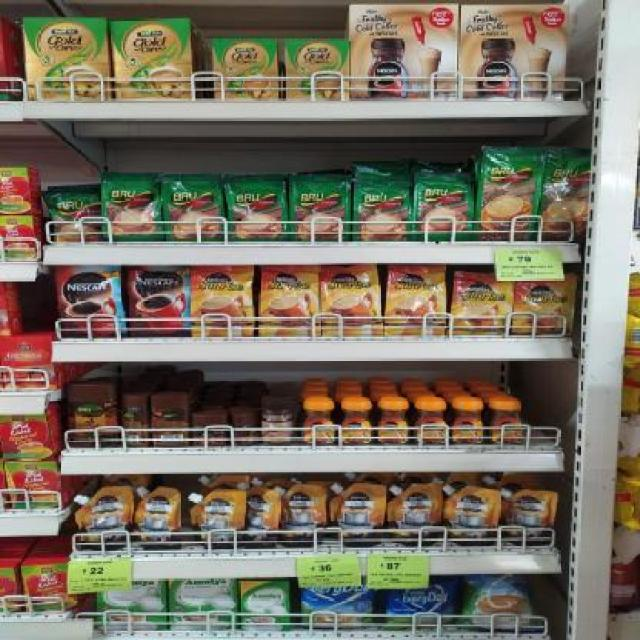Coffee: (57, 265, 119, 337), (128, 266, 190, 335), (193, 265, 252, 337), (261, 265, 319, 337), (388, 266, 446, 337), (322, 266, 378, 336), (455, 273, 511, 335), (516, 280, 573, 334), (413, 403, 450, 446), (488, 402, 524, 445), (302, 403, 335, 446), (376, 403, 409, 445), (452, 403, 485, 445), (339, 403, 371, 446)
